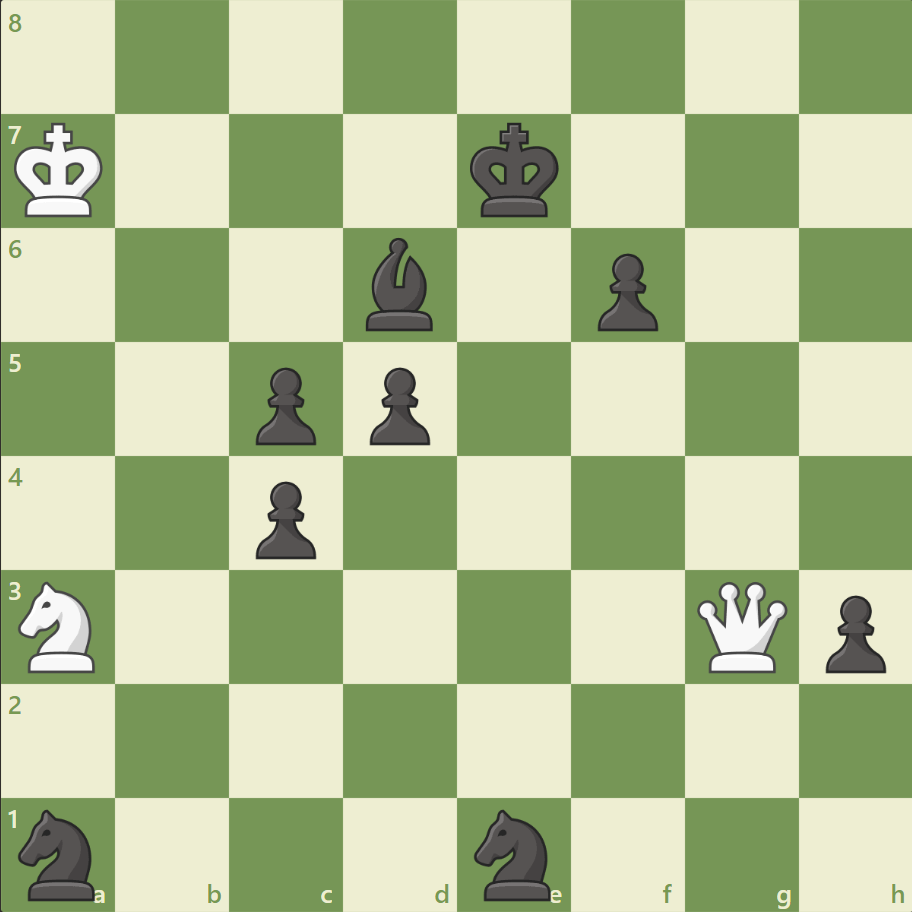K: (11, 117, 111, 225)
N: (11, 575, 108, 677)
Q: (691, 576, 790, 676)
b: (358, 233, 442, 336)
k: (465, 117, 565, 225)
n: (11, 802, 108, 904), (465, 802, 562, 904)
p: (247, 359, 322, 450), (247, 473, 322, 564), (588, 246, 662, 337), (361, 359, 435, 450), (815, 586, 889, 677)
